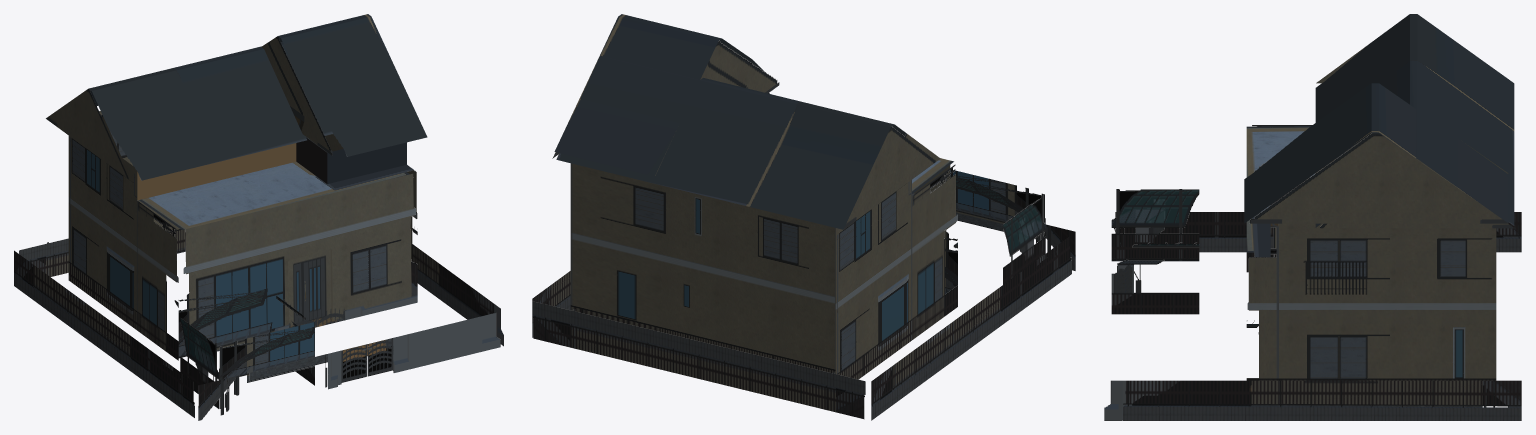
File: house_006_low.fbx
3 views of the same model, side by side, from view 1: azimuth 30°, elevation 25°; view 2: azimuth 150°, elevation 25°; view 3: azimuth 270°, elevation 25° (orthographic). The views are drawn at different scales.
Visible parts, largest first — view 1: pCube228; view 2: pCube228; view 3: pCube228.
Part boxes in pixels (x1,y1,x2,y2): pCube228: [14, 14, 503, 420]; pCube228: [532, 14, 1075, 420]; pCube228: [1104, 14, 1521, 420].
Size of the model in its own units: 13.68 by 10.57 by 14.29.
